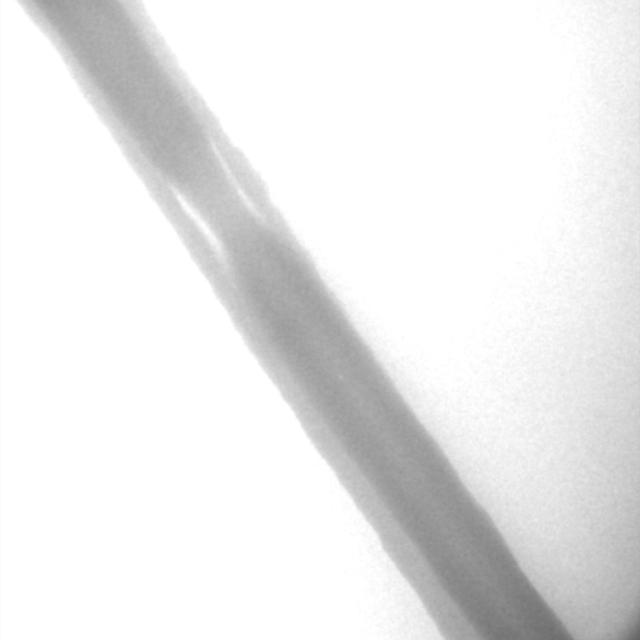unfused: (172, 145, 265, 270)
